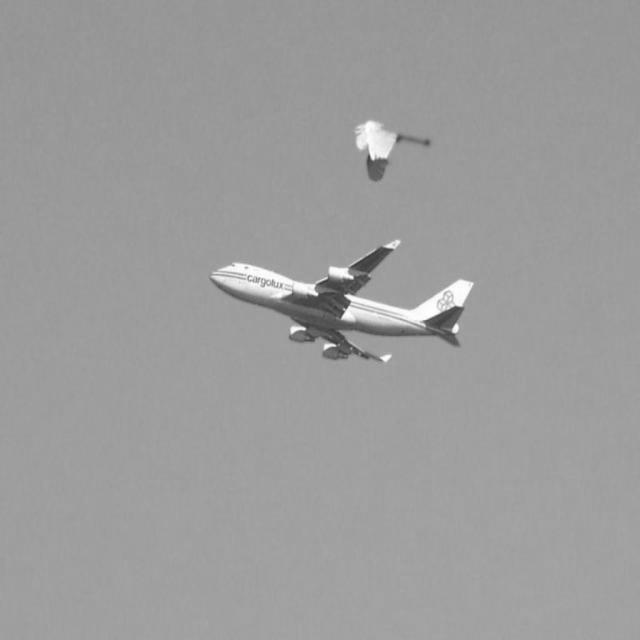aeroplane: (208, 230, 474, 362), (349, 116, 432, 182)
